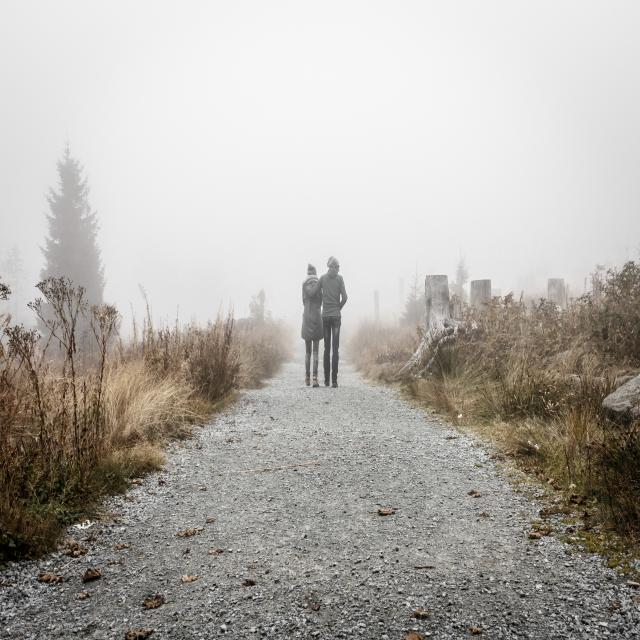adult: (302, 256, 348, 386), (301, 264, 324, 387)
